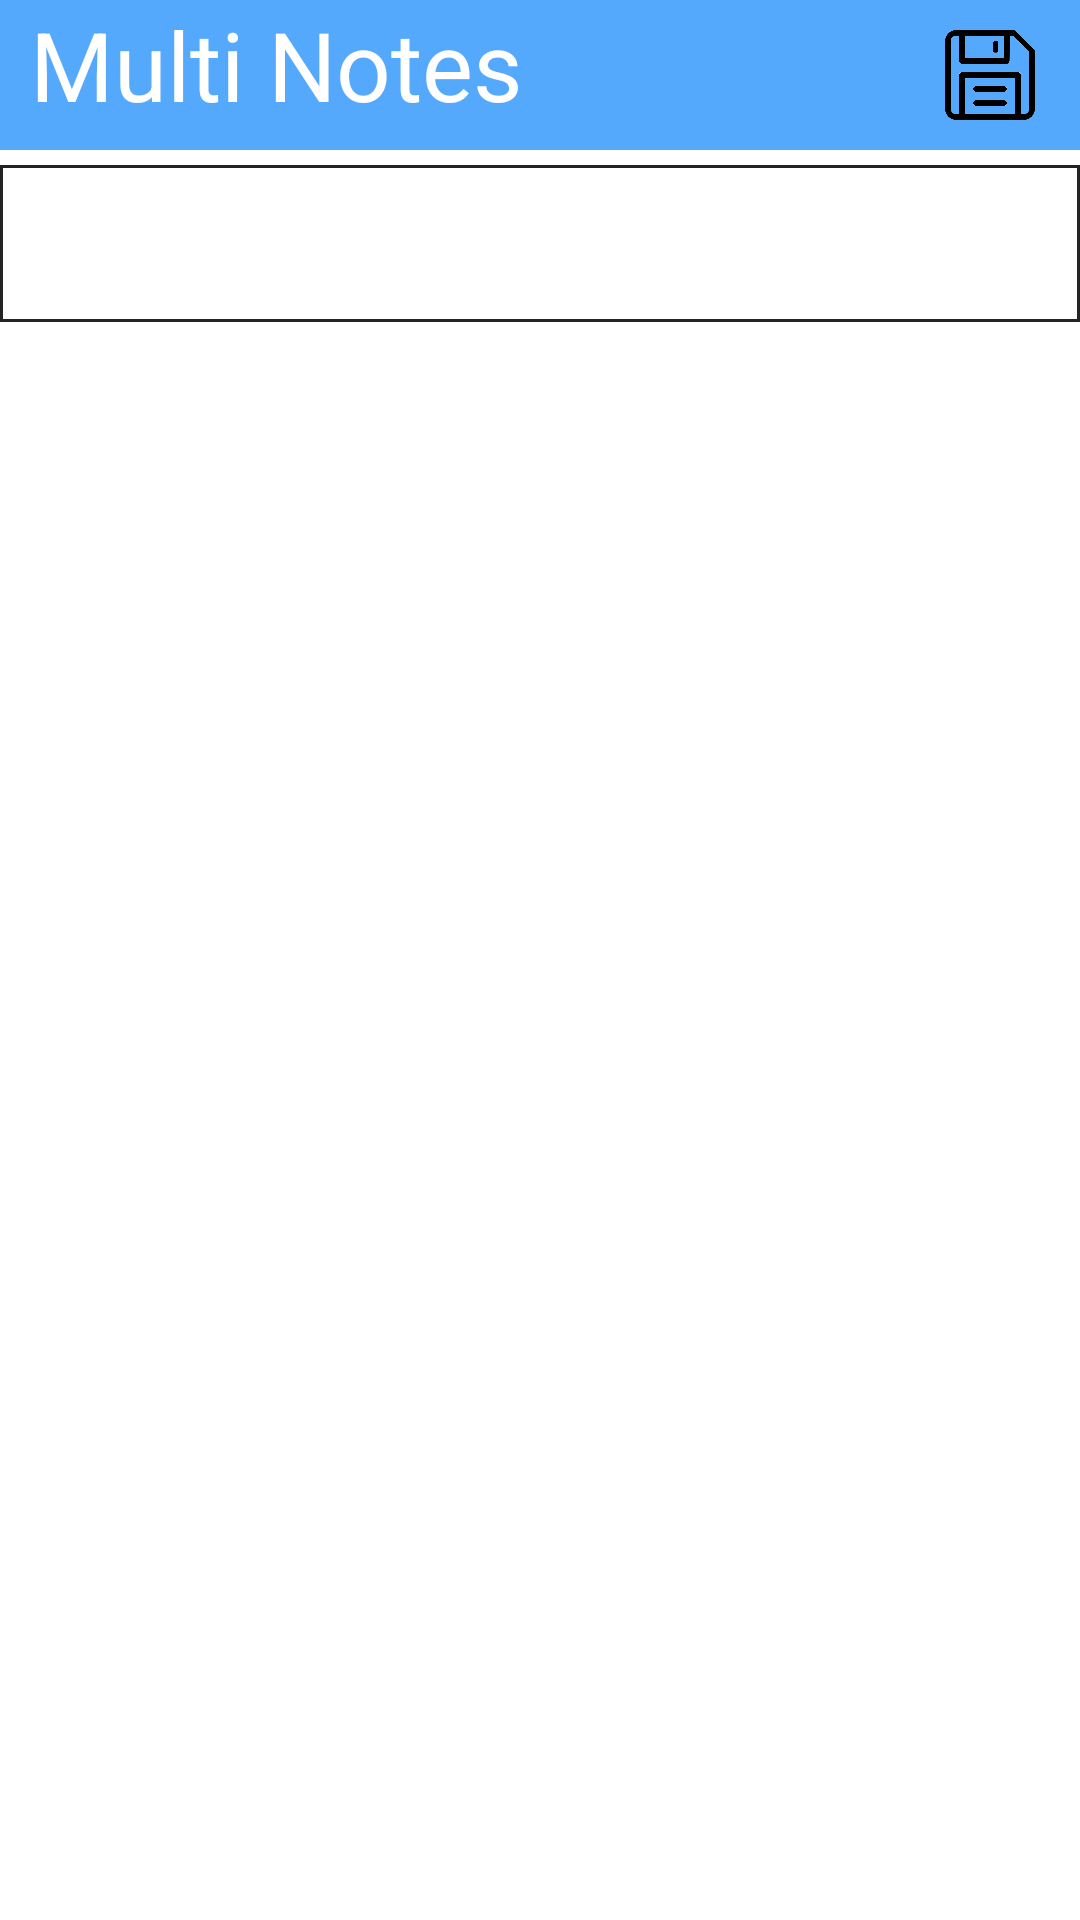

Icons on this 1080 × 1920 Android screen, each with its box as (x1,y1,x2,y2):
save: (945,30,1035,120)
